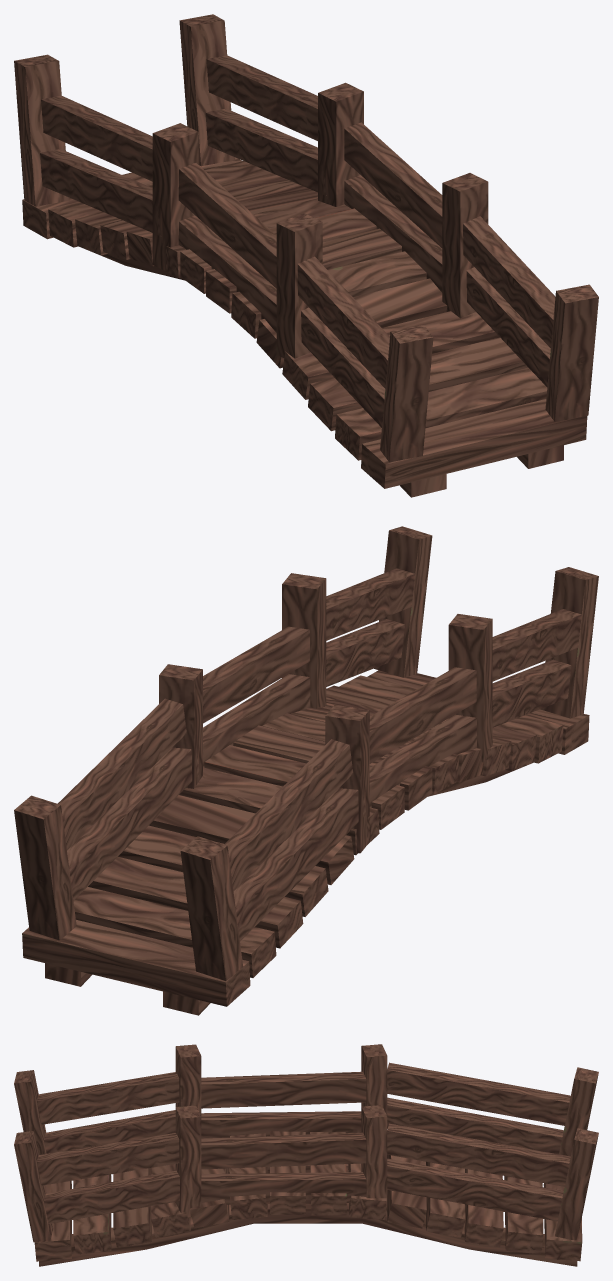
File: Brücke.fbx
3 renders of one model, top to bottom at view 1: azimuth 30°, elevation 25°; view 2: azimuth 150°, elevation 25°; view 3: azimuth 270°, elevation 25°, orthographic. The views are drawn at different scales.
Visible parts, largest first — view 1: Cube.010; view 2: Cube.010; view 3: Cube.010.
Part boxes in pixels (x1,y1,x2,y2): Cube.010: [14, 14, 598, 497]; Cube.010: [14, 526, 598, 1015]; Cube.010: [14, 1044, 598, 1266].
Bounding box in the file's own units: 205 × 195 × 666.
